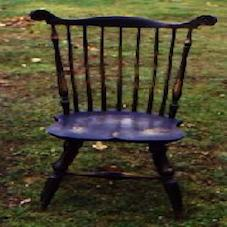chair: (17, 4, 217, 211)
